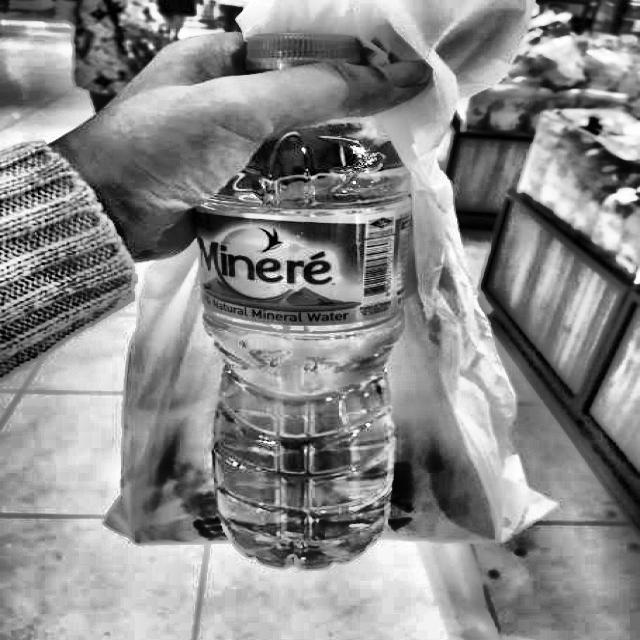waterbottle: (190, 26, 412, 580)
